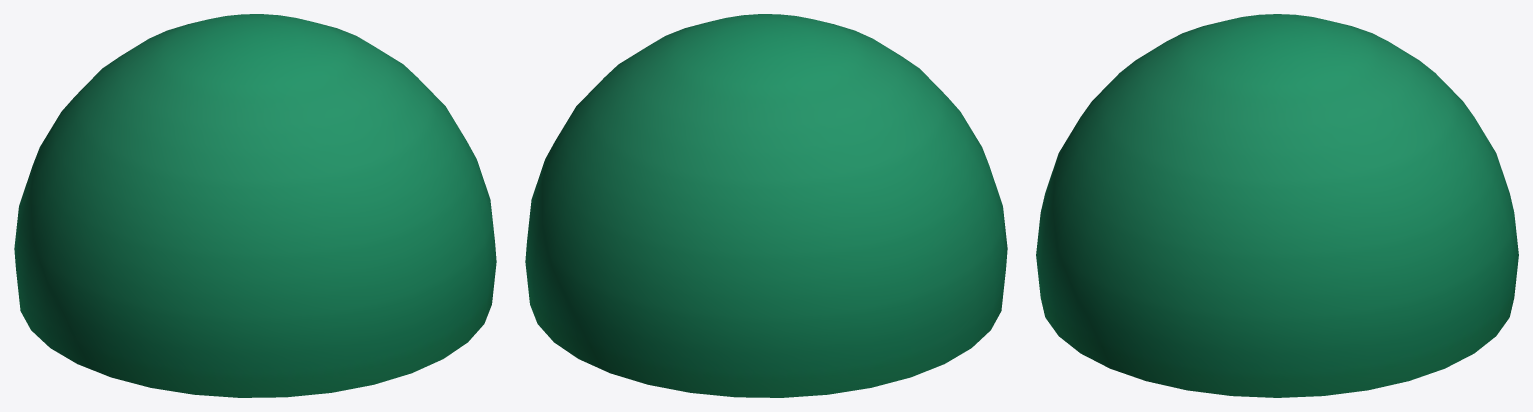
File: Bush1.fbx
3 views of the same model, side by side, from view 1: azimuth 30°, elevation 25°; view 2: azimuth 150°, elevation 25°; view 3: azimuth 270°, elevation 25° (orthographic).
Visible parts, largest first — view 1: Sphere; view 2: Sphere; view 3: Sphere.
Part boxes in pixels (x1=…): Sphere: x1=14, y1=14, x2=496, y2=397; Sphere: x1=525, y1=14, x2=1007, y2=397; Sphere: x1=1036, y1=14, x2=1518, y2=397.
Size of the model in its own units: 114 by 68.34 by 114.
